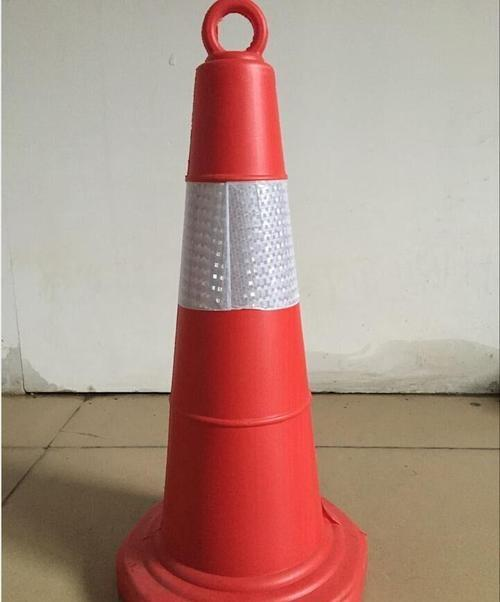cone_barrel: (136, 11, 349, 601)
